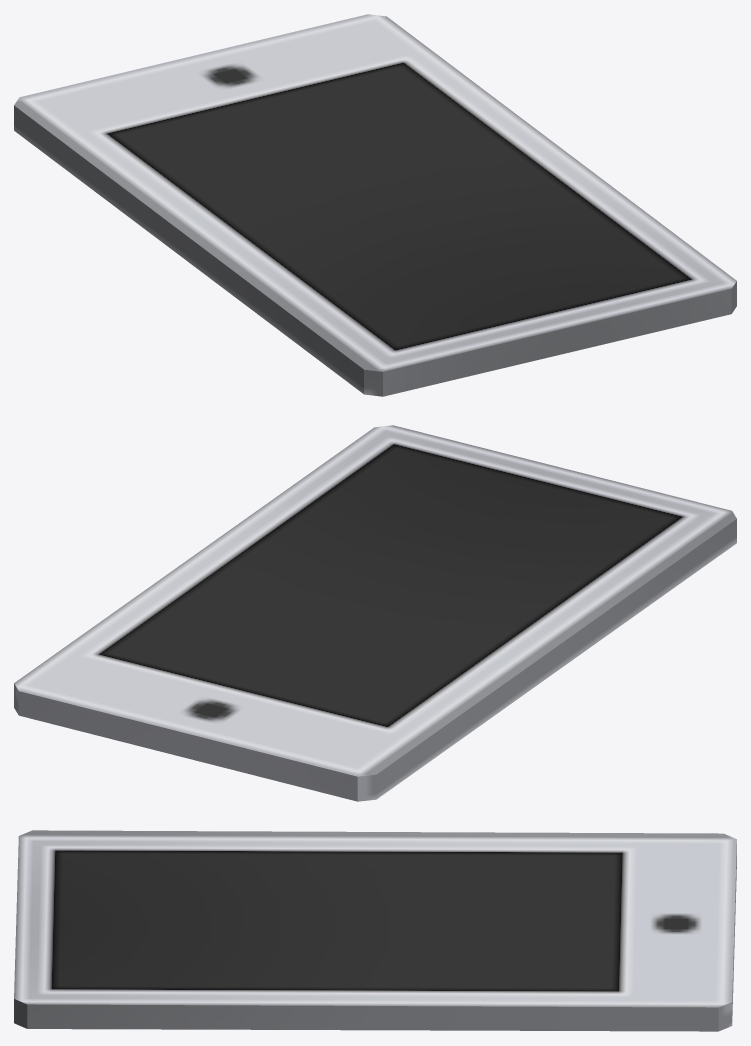
Rendered from TouKuiZheJia_01_shouji_01.FBX.
The picture shows the model from 3 angles, top to bottom: view 1: azimuth 30°, elevation 25°; view 2: azimuth 150°, elevation 25°; view 3: azimuth 270°, elevation 25°; orthographic projection. The views are drawn at different scales.
Visible parts, largest first — view 1: TouKuiZheJia_shouji_01; view 2: TouKuiZheJia_shouji_01; view 3: TouKuiZheJia_shouji_01.
Boxes of the visible parts, x1,y1,x2,y2 form: TouKuiZheJia_shouji_01: (14,14,736,396); TouKuiZheJia_shouji_01: (14,425,736,801); TouKuiZheJia_shouji_01: (14,830,736,1031).
Bounding box in the file's own units: 38.19 × 2.51 × 65.5.
